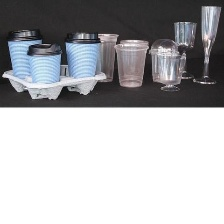glass: (190, 2, 223, 86), (5, 27, 44, 84), (63, 28, 103, 83), (28, 35, 64, 92), (88, 29, 122, 87), (111, 42, 149, 89), (145, 36, 181, 85), (170, 18, 195, 84), (154, 51, 187, 96)
